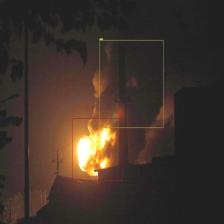fire: (72, 118, 123, 181)
smoke: (99, 40, 164, 128)
